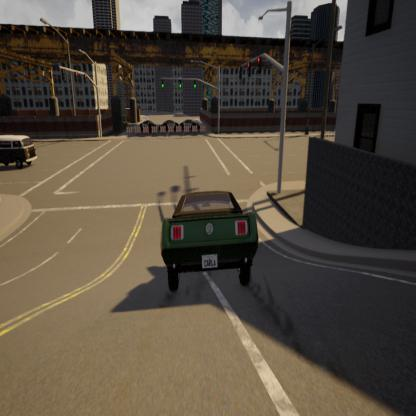Cars: (135, 167, 268, 305), (0, 129, 45, 176)
